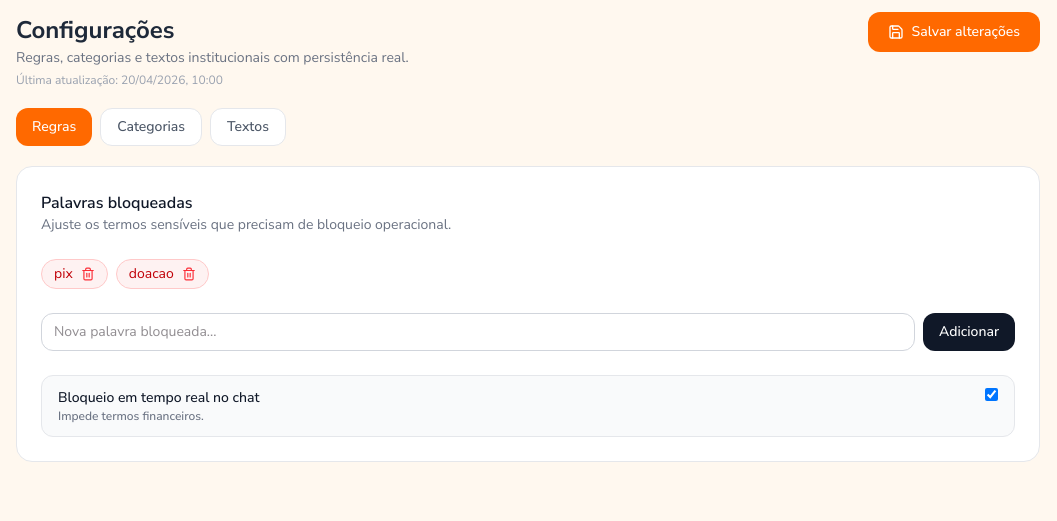
Test: AdminSettings › loads persisted settings, saves changes and no longer exposes templates as a tab
Expected: the text "pix" is shown, [54,264,73,284]
Type "campanha" into the field with placeholder "Nova palavra bloqueada..." at point(478, 332), box [41,313,915,351]
Click the button "Adicionar" at point(969, 332), box [923,313,1015,351]
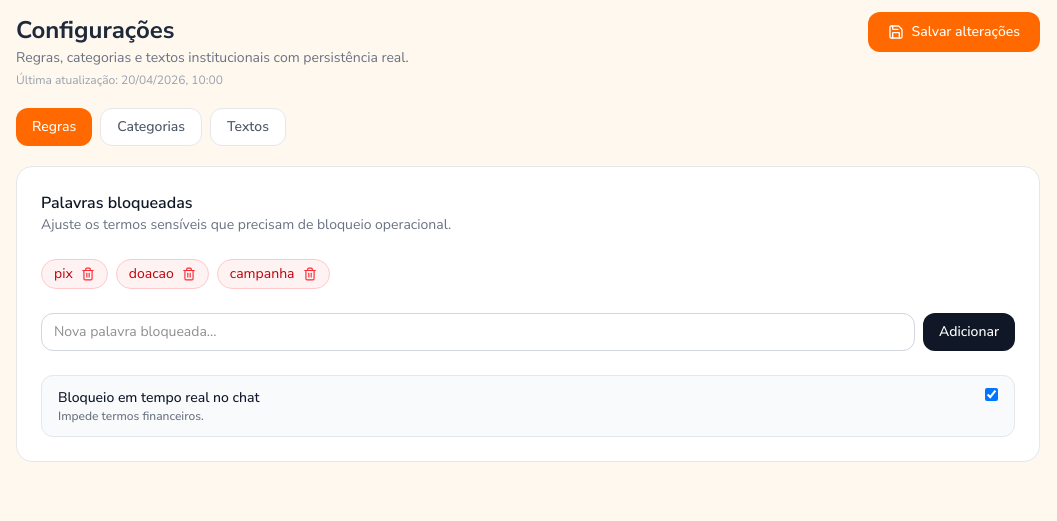
Click the button "Categorias" at point(151, 127), box [100,108,202,146]
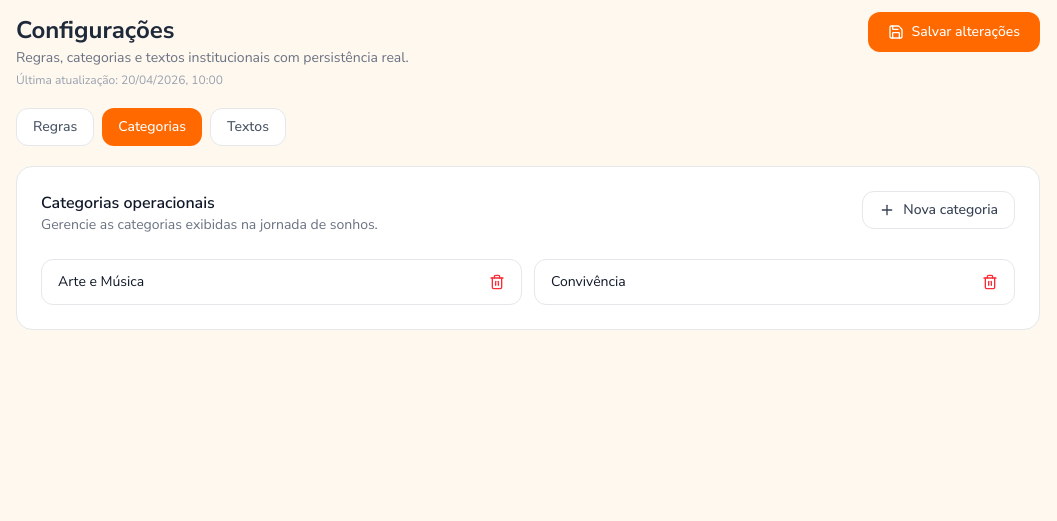
Now the text "Arte e Música" is shown, box [58,272,144,292]
Click the button "Nova categoria" at point(939, 210), box [862,191,1015,229]
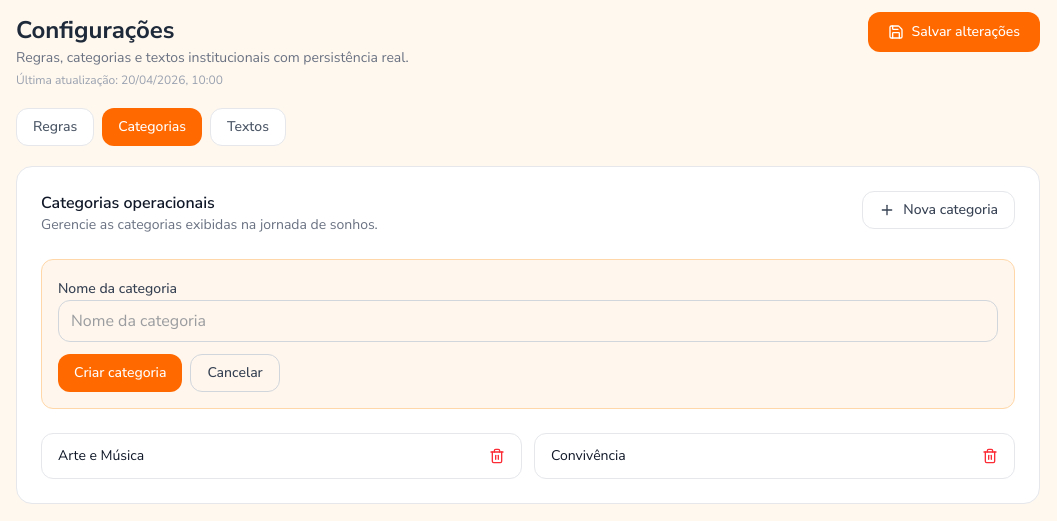
Type "Saúde integral" into the field with placeholder "Nome da categoria" at point(528, 321), box [58,300,998,342]
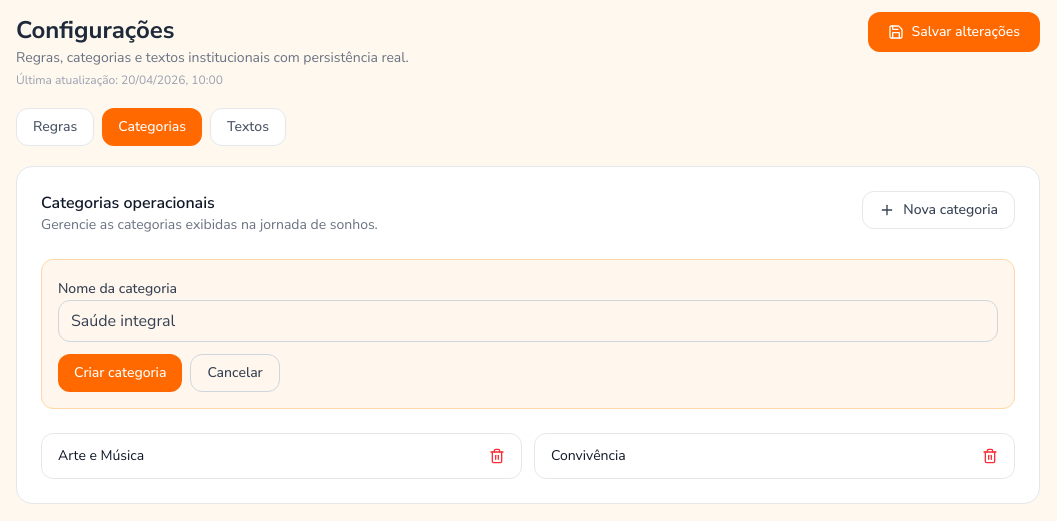
Click the button "Criar categoria" at point(120, 373), box [58,354,182,392]
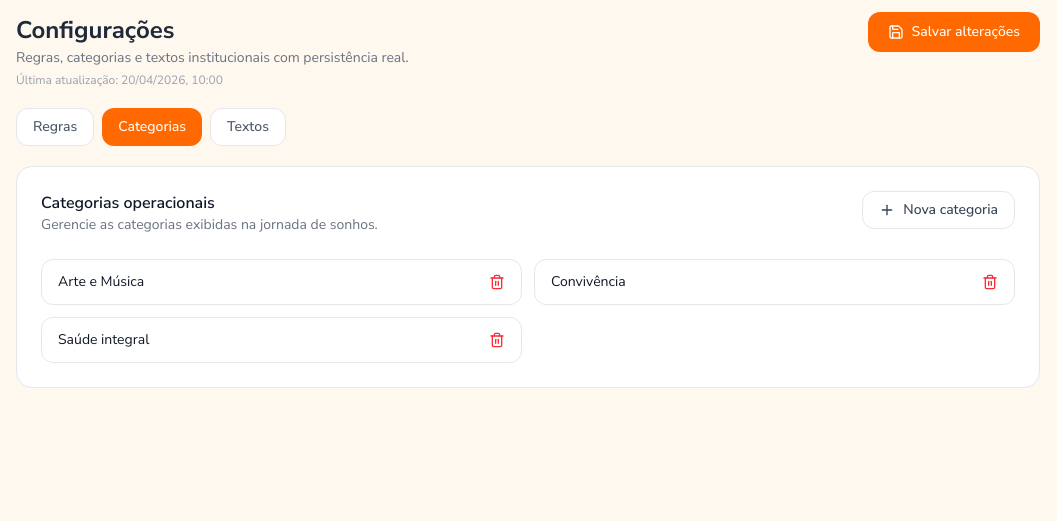
Click the button "Salvar alterações" at point(954, 32), box [868,12,1040,52]
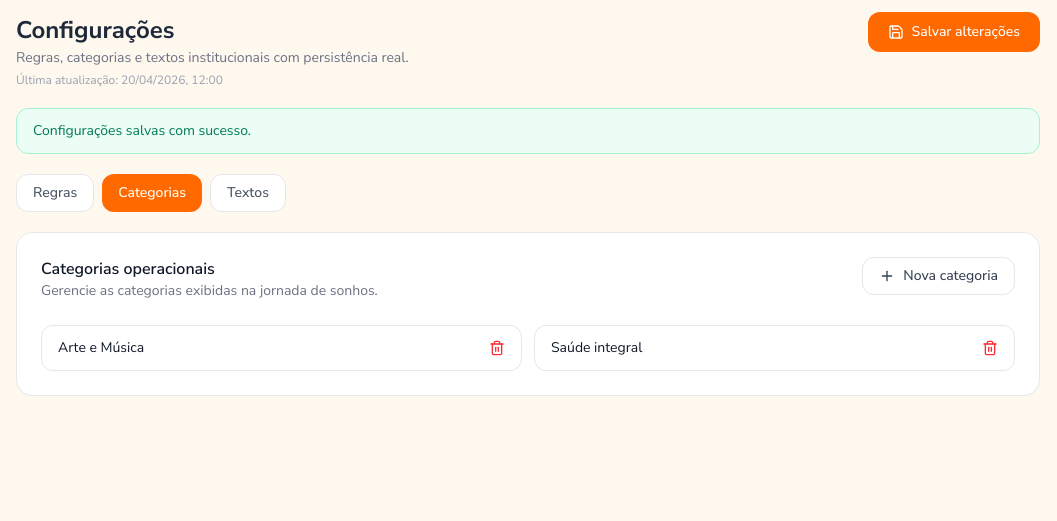
Now the text "Configurações salvas com sucesso." is shown, box [16,108,1040,154]
